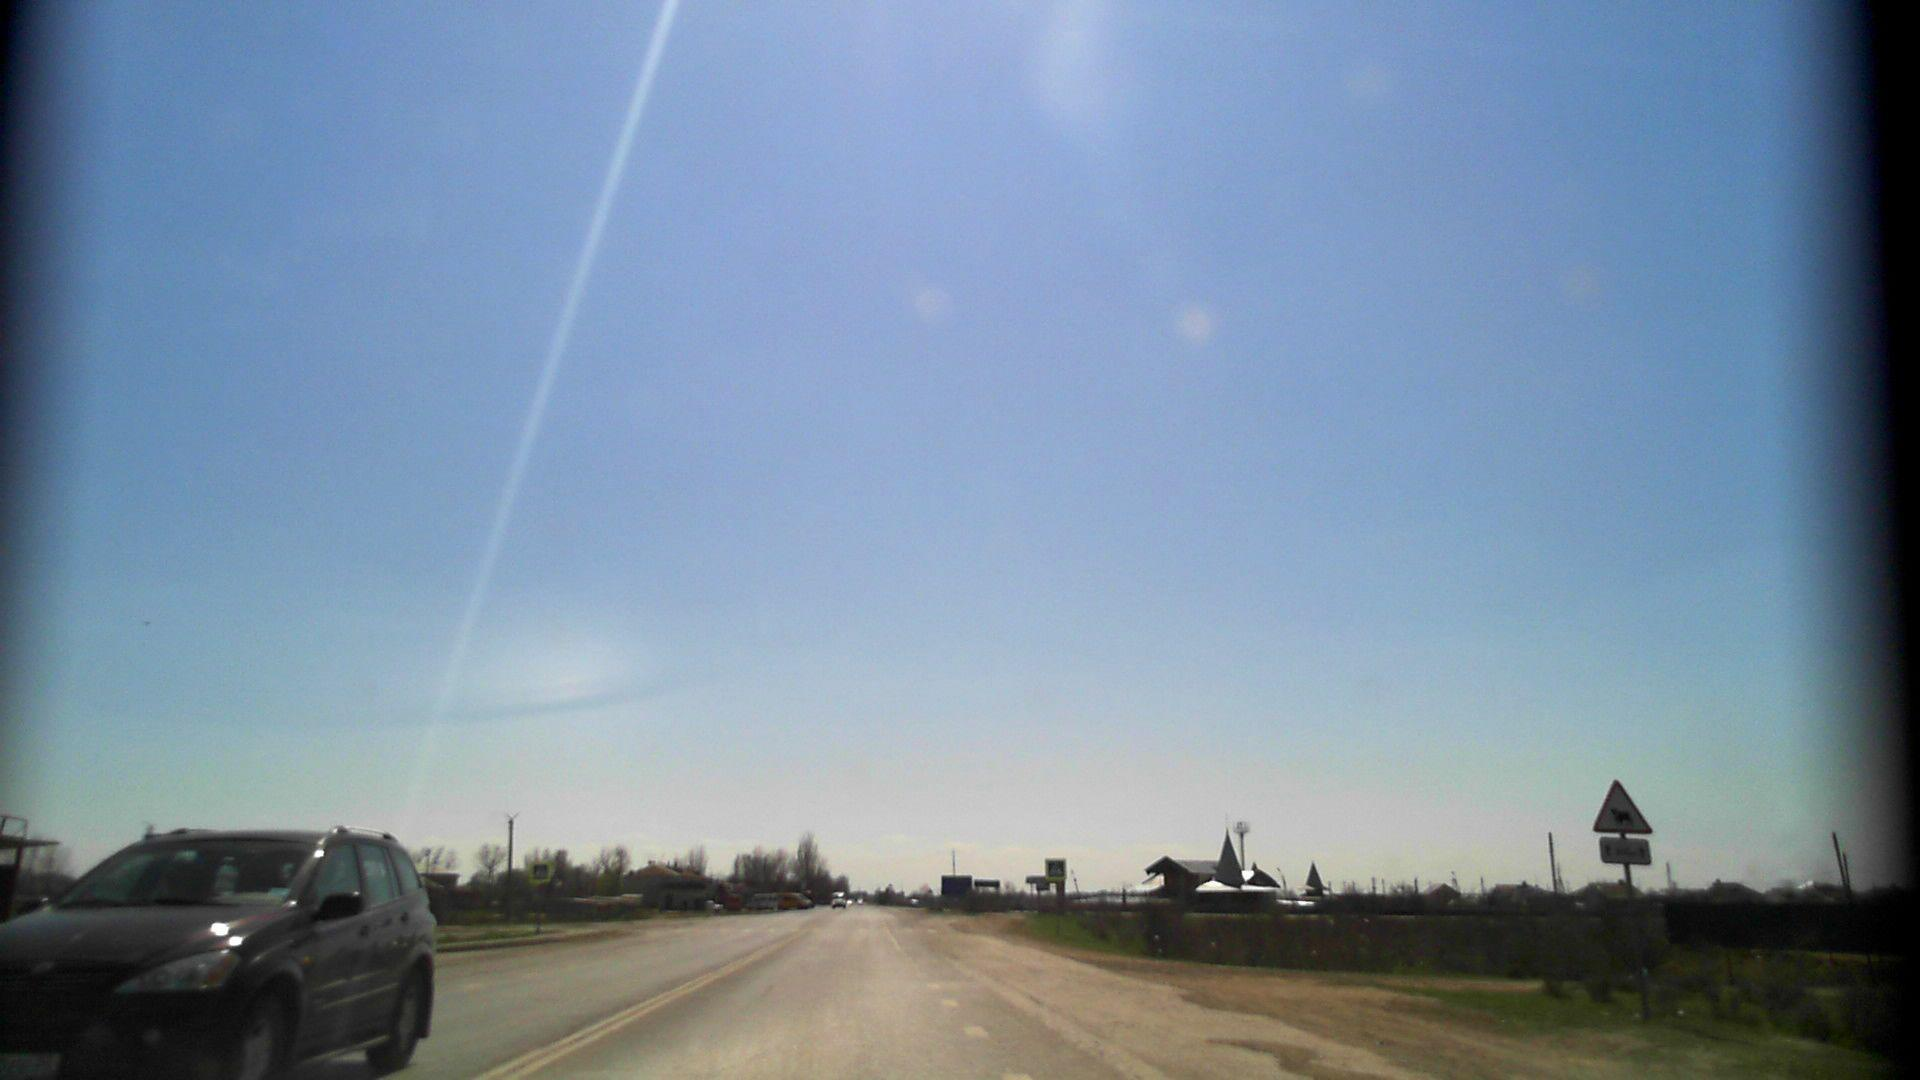1_26: (1593, 776, 1654, 836)
5_19_1: (1045, 859, 1067, 880)
5_19_2: (531, 862, 550, 880)
8_2_1: (1599, 837, 1652, 864)
